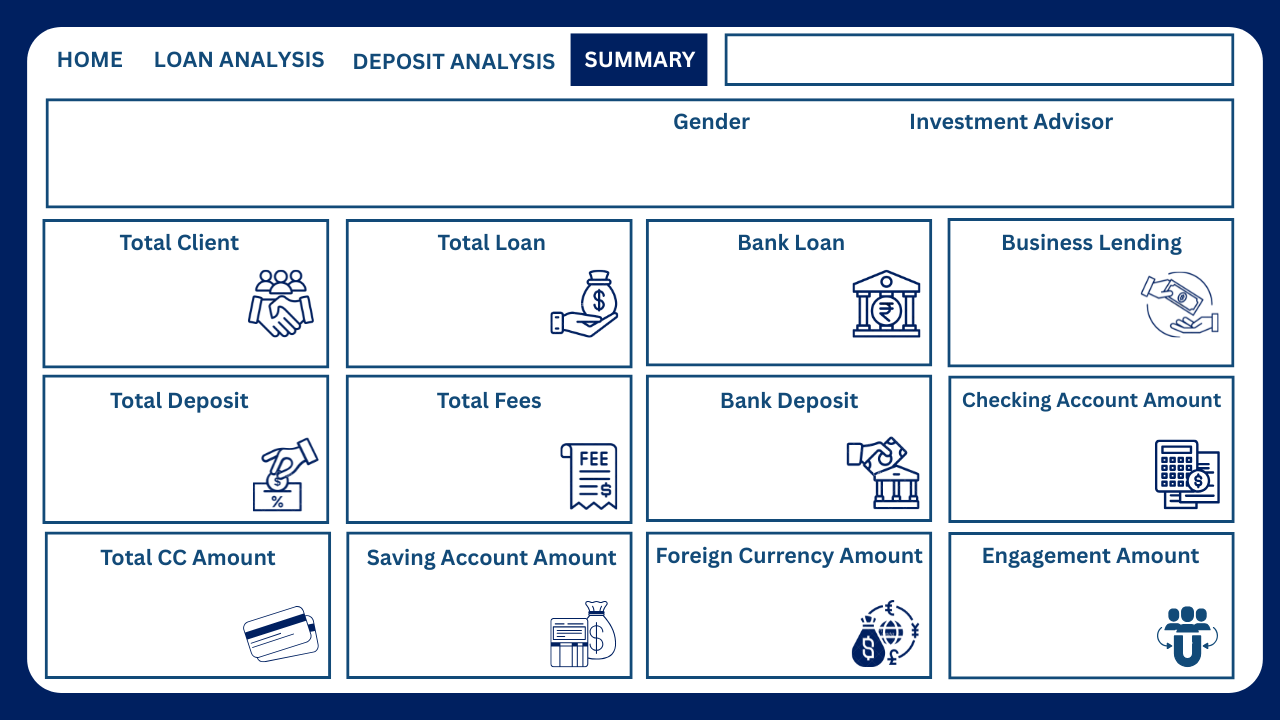

The page's visual inventory and layout, read from the dashboard file:
{"tool":"powerbi","page":{"name":"Summary","canvas":[1280,720],"ordinal":3},"visuals":[{"type":"slicer","fields":{"Values":["banking_case customer.Year Of Joining"]},"box":[703.3,31.7,550,55],"z":0},{"type":"actionButton","box":[152,31.4,172.5,54.3],"z":1000},{"type":"actionButton","box":[43.4,39.8,90.5,39.8],"z":2000},{"type":"actionButton","box":[348.3,33.3,210,53.3],"z":3000},{"type":"card","fields":{"Values":["CountNonNull(banking_case customer.Name)"]},"box":[13.3,255.8,272.7,83.2],"z":4000},{"type":"slicer","fields":{"Values":["banking_case customer.BRId"]},"box":[30.2,139.9,569.4,60.3],"z":5000},{"type":"slicer","fields":{"Values":["Query1.GenderId"]},"box":[559.8,139.9,307.6,60.3],"z":6000},{"type":"slicer","fields":{"Values":["banking_case customer.IAId"]},"box":[855.4,141.2,375.2,60.3],"z":7000},{"type":"card","fields":{"Values":["banking_case customer.Total Loan"]},"box":[314.9,255.8,272.7,83.2],"z":8000},{"type":"card","fields":{"Values":["Sum(banking_case customer.Bank Loans)"]},"box":[612.9,255.8,272.7,83.2],"z":9000},{"type":"card","fields":{"Values":["Sum(banking_case customer.Business Lending)"]},"box":[906,255.8,271.4,83.2],"z":10000},{"type":"card","fields":{"Values":["banking_case customer.Total Deposite"]},"box":[14.5,417.4,270.2,82],"z":11000},{"type":"card","fields":{"Values":["banking_case customer.Total Deposite"]},"box":[614.1,416.2,272.7,83.2],"z":12000},{"type":"card","fields":{"Values":["Sum(banking_case customer.Checking Accounts)"]},"box":[916.9,413.8,272.7,85.7],"z":13000},{"type":"card","fields":{"Values":["Sum(banking_case customer.Credit Card Balance)"]},"box":[14.5,574.3,272.7,84.5],"z":14000},{"type":"card","fields":{"Values":["Sum(banking_case customer.Saving Accounts)"]},"box":[314.9,574.3,271.4,84.5],"z":15000},{"type":"card","fields":{"Values":["Sum(banking_case customer.Foreign Currency Account)"]},"box":[614.1,574.3,271.4,84.5],"z":16000},{"type":"card","fields":{"Values":["banking_case customer.Total Fees"]},"box":[316.1,417.4,271.4,82],"z":17000},{"type":"card","fields":{"Values":["banking_case customer.Engagment Length"]},"box":[908.4,574.3,271.4,84.5],"z":18000}]}

Visuals, with their boxes in screenshot pixels (x1, y1, x2, y2), scaled from the page's 1280x720 canvas onto the 1280x720 screenshot:
slicer - banking_case customer.Year Of Joining: 703,32,1253,87
actionButton: 152,31,324,86
actionButton: 43,40,134,80
actionButton: 348,33,558,87
card - CountNonNull(banking_case customer.Name): 13,256,286,339
slicer - banking_case customer.BRId: 30,140,600,200
slicer - Query1.GenderId: 560,140,867,200
slicer - banking_case customer.IAId: 855,141,1231,202
card - banking_case customer.Total Loan: 315,256,588,339
card - Sum(banking_case customer.Bank Loans): 613,256,886,339
card - Sum(banking_case customer.Business Lending): 906,256,1177,339
card - banking_case customer.Total Deposite: 14,417,285,499
card - banking_case customer.Total Deposite: 614,416,887,499
card - Sum(banking_case customer.Checking Accounts): 917,414,1190,500
card - Sum(banking_case customer.Credit Card Balance): 14,574,287,659
card - Sum(banking_case customer.Saving Accounts): 315,574,586,659
card - Sum(banking_case customer.Foreign Currency Account): 614,574,886,659
card - banking_case customer.Total Fees: 316,417,588,499
card - banking_case customer.Engagment Length: 908,574,1180,659
